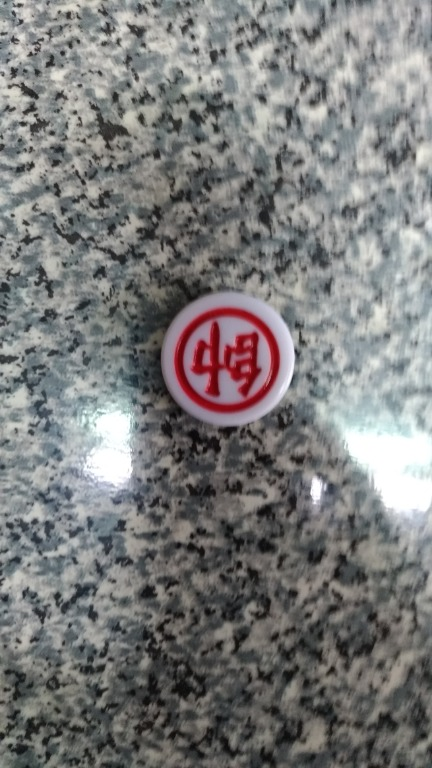r-king: (144, 282, 317, 434)
